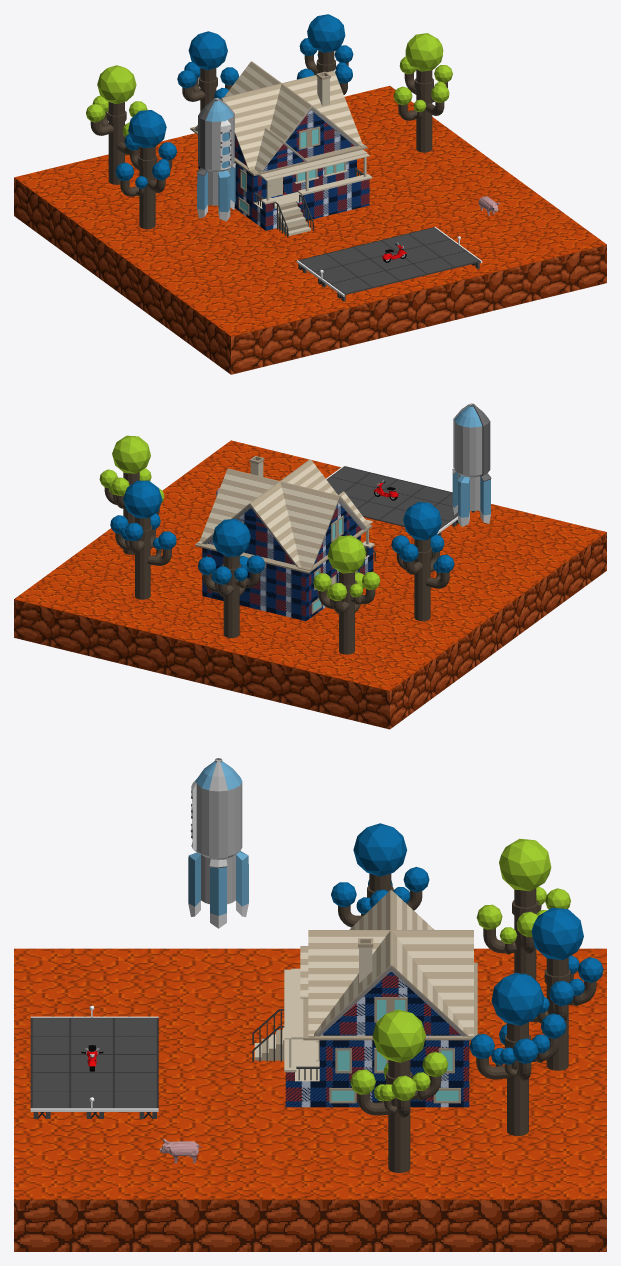
The picture shows the model from 3 angles, top to bottom: view 1: azimuth 30°, elevation 25°; view 2: azimuth 150°, elevation 25°; view 3: azimuth 270°, elevation 25°; orthographic projection. The views are drawn at different scales.
Parts seen in each view (by area): view 1: Cube.001, Cube.171, OBJRANDOM_ROCKETSHIP; view 2: Cube.001, Cube.171, OBJRANDOM_ROCKETSHIP; view 3: Cube.001, Cube.171, OBJRANDOM_ROCKETSHIP.
Boxes of the visible parts, x1=… form: Cube.001: x1=14, y1=14, x2=606, y2=374; Cube.171: x1=190, y1=61, x2=372, y2=236; OBJRANDOM_ROCKETSHIP: x1=197, y1=98, x2=235, y2=221; Cube.001: x1=14, y1=435, x2=606, y2=729; Cube.171: x1=195, y1=456, x2=375, y2=621; OBJRANDOM_ROCKETSHIP: x1=452, y1=403, x2=491, y2=526; Cube.001: x1=14, y1=823, x2=606, y2=1251; Cube.171: x1=252, y1=890, x2=477, y2=1107; OBJRANDOM_ROCKETSHIP: x1=188, y1=758, x2=248, y2=928.
Bounding box in the file's own units: 4000 × 2179 × 4000.
33 materials, 5 textured.
